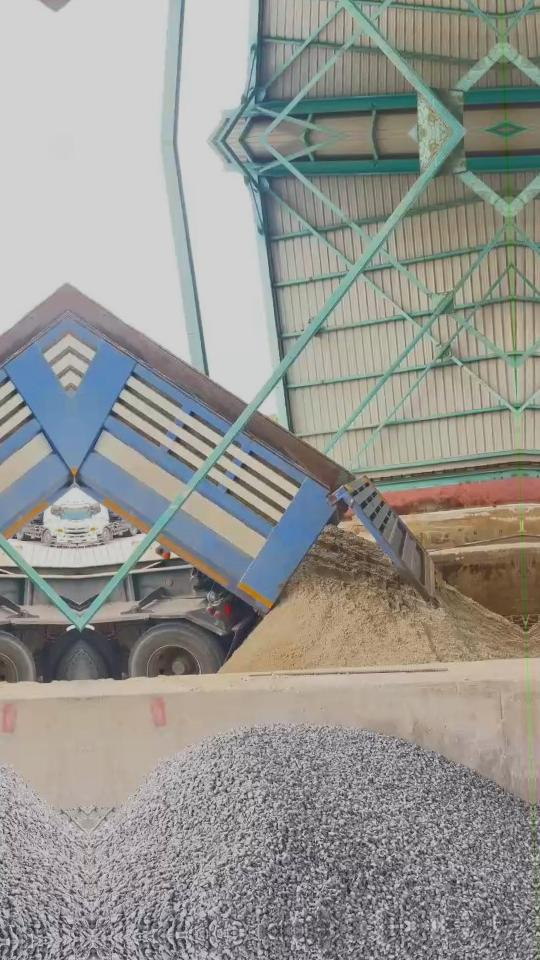gravel: (90, 725, 534, 938)
sand: (221, 527, 523, 672)
